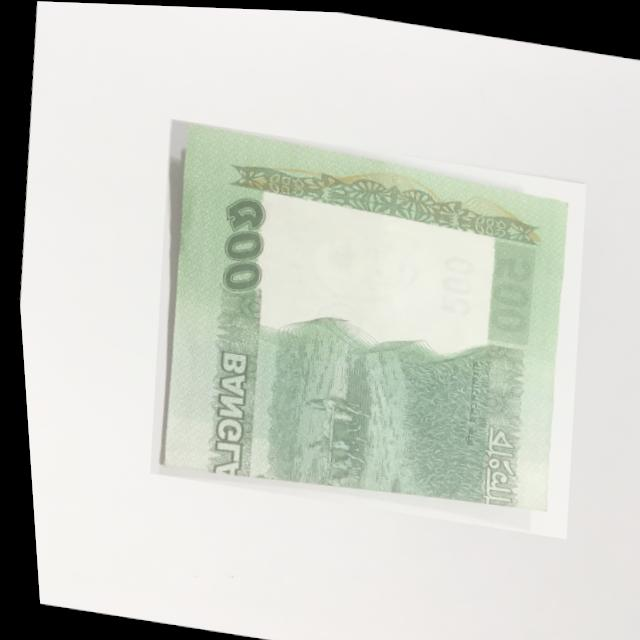Taka: (124, 115, 602, 536)
